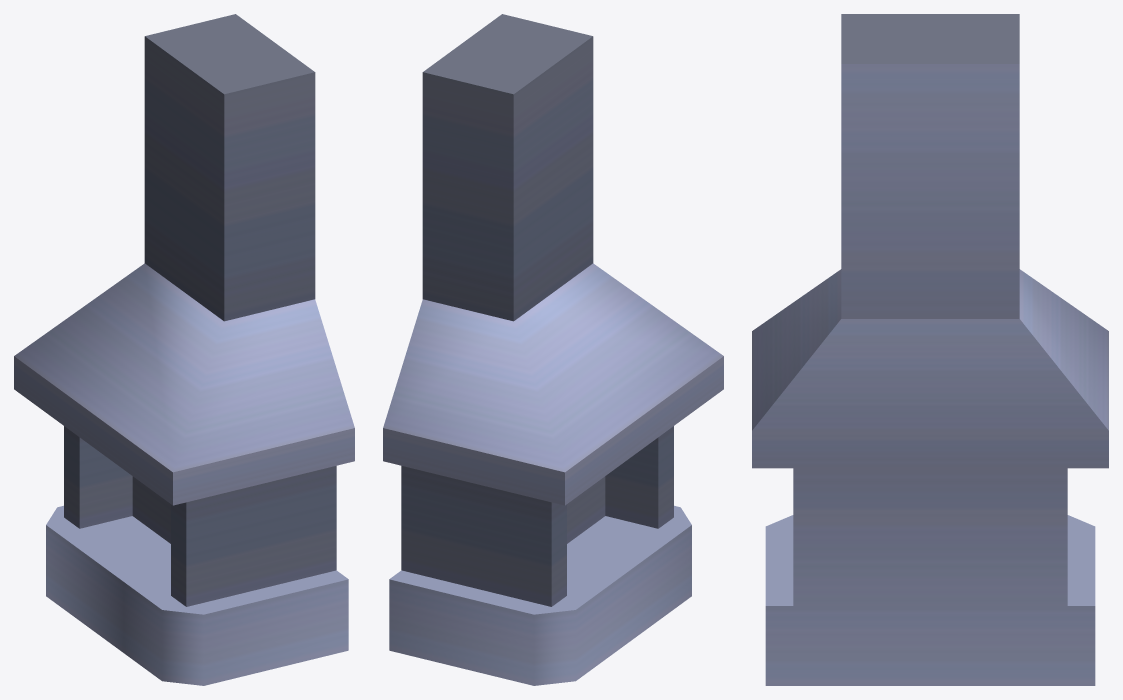
File: chimney-base.glb
The picture shows the model from 3 angles, left to right: view 1: azimuth 30°, elevation 25°; view 2: azimuth 150°, elevation 25°; view 3: azimuth 270°, elevation 25°; orthographic projection. The views are drawn at different scales.
Visible parts, largest first — view 1: chimney-base; view 2: chimney-base; view 3: chimney-base.
Part boxes in pixels (box(x1,y1,x2,y2)): chimney-base: box(14, 14, 354, 685); chimney-base: box(383, 14, 723, 685); chimney-base: box(752, 14, 1108, 685).
Size of the model in its own units: 0.3438 by 1 by 0.52.
Materials: 1 (1 with a texture image).
